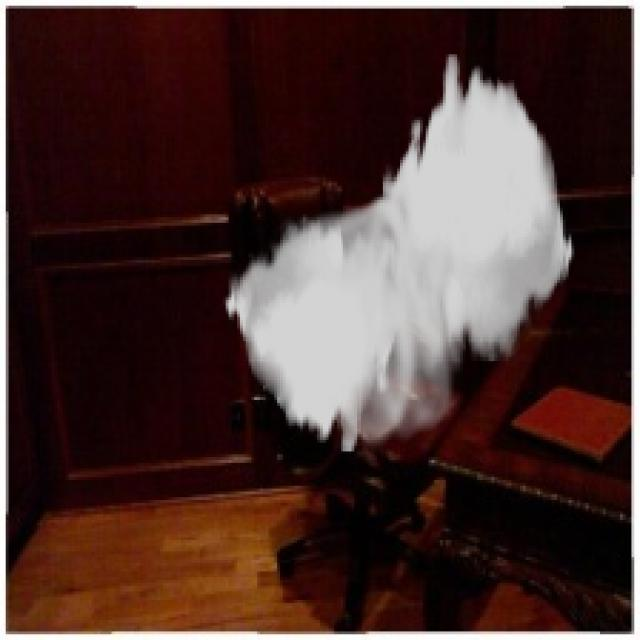smoke: (223, 54, 574, 454)
